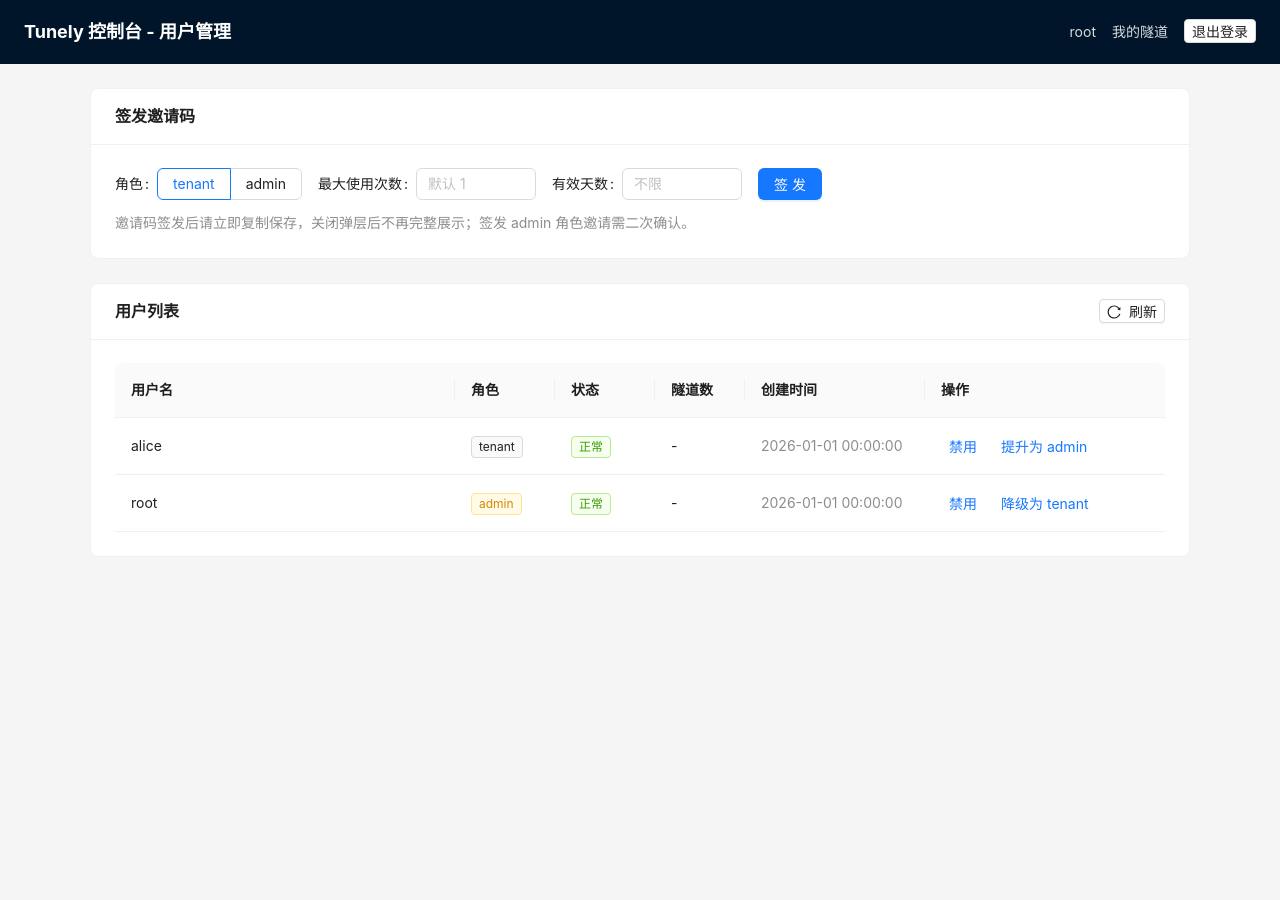
Scenario: Admin › 签发 tenant 邀请码：默认角色直接签发，payload 带 role:"tenant"
Expected: the text "alice" is shown, x1=115 y1=418 x2=455 y2=475
What coordinates should you click on to do the following:
click the button "签 发"
I would click on:
 (790, 184)
Its box is x1=758 y1=168 x2=822 y2=200.
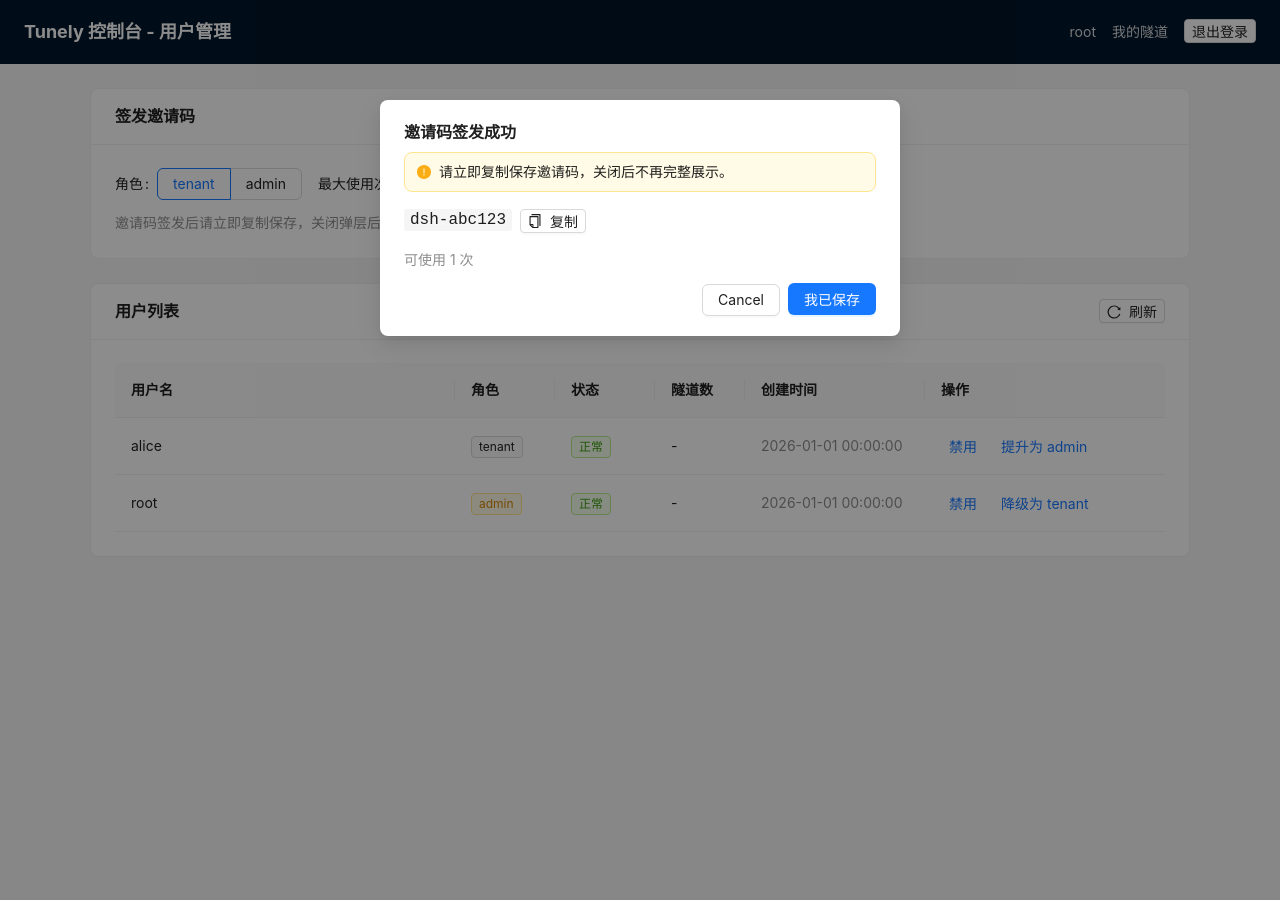
Expected: the text "邀请码签发成功" is shown, x1=404 y1=122 x2=516 y2=142
Expected: the text "dsh-abc123" is shown, x1=404 y1=209 x2=512 y2=231
